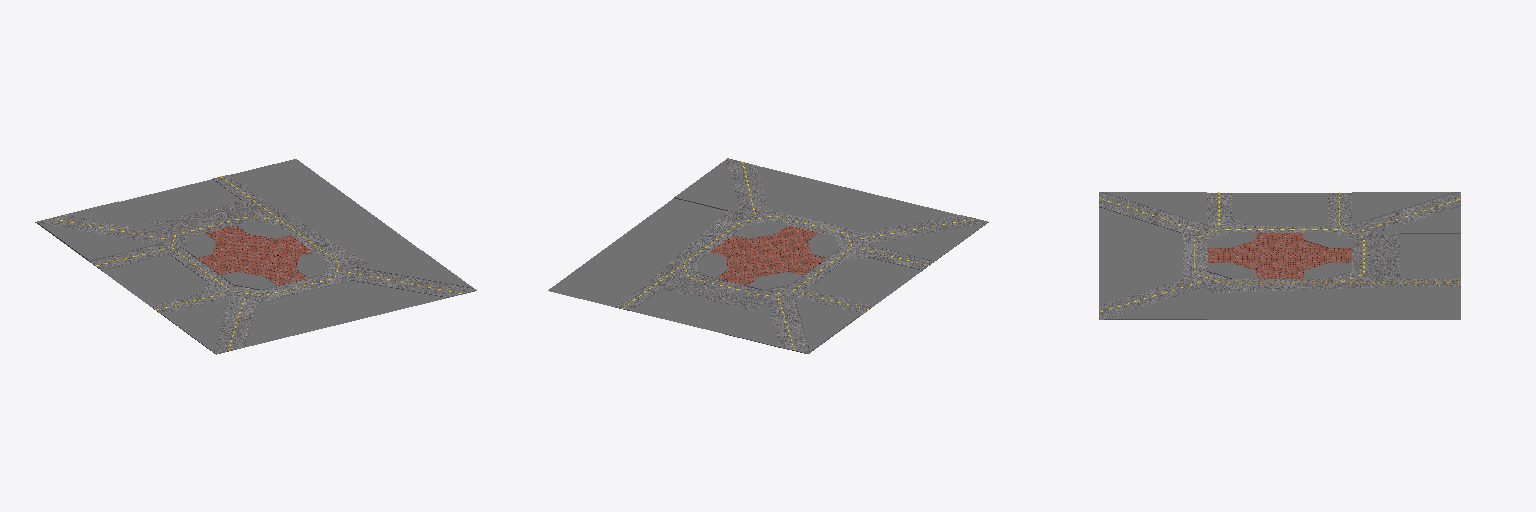
3 views of the same model, side by side, from view 1: azimuth 30°, elevation 25°; view 2: azimuth 150°, elevation 25°; view 3: azimuth 270°, elevation 25° (orthographic).
Visible parts, largest first — view 1: Plane001, Line006, Line004, Line001; view 2: Plane001, Line006, Line004, Line001; view 3: Plane001, Line006, Line004, Line001.
Boxes of the visible parts, x1,y1,x2,y2 form: Plane001: [46, 159, 474, 346]; Line006: [35, 175, 476, 354]; Line004: [38, 201, 473, 352]; Line001: [197, 226, 313, 285]; Plane001: [548, 166, 956, 342]; Line006: [615, 158, 988, 353]; Line004: [674, 160, 986, 352]; Line001: [710, 226, 826, 285]; Plane001: [1099, 193, 1460, 319]; Line006: [1099, 192, 1460, 319]; Line004: [1103, 192, 1460, 319]; Line001: [1208, 233, 1351, 278].
Bounding box in the file's own units: 250 × 1.14 × 300.
Materials: 5 (3 with a texture image).